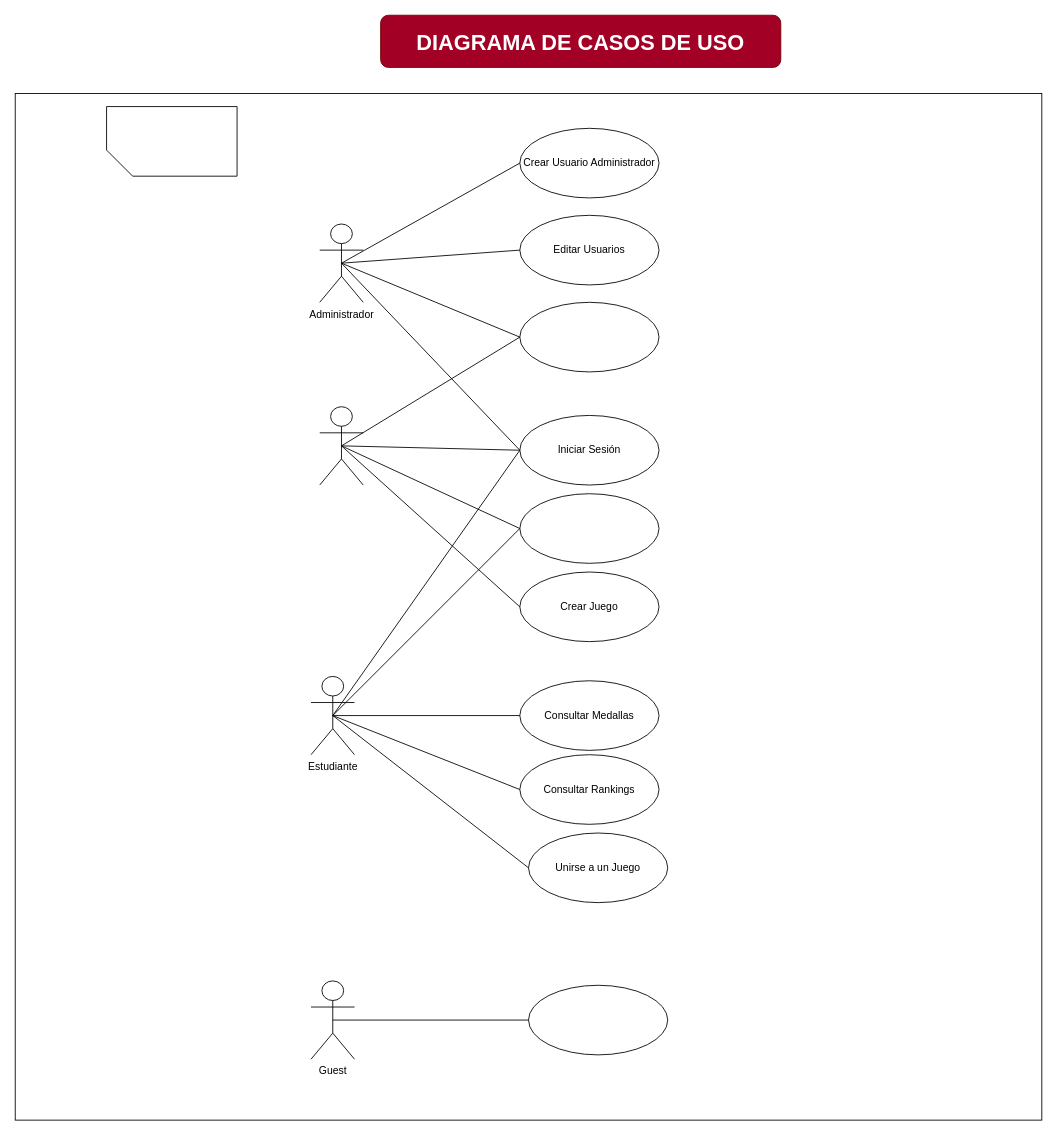
Some shapes in this 1057 by 1135 pixel diagram are drawn without their labels. Here are the shapes that lost their labels. From the top down, the centre of each, then its label:
At point (171, 141): "GamesApp".
At point (589, 336): "Generar Reportes".
At point (341, 445): "Profesor".
At point (589, 528): "Ver Notificaciones".
At point (598, 1019): "Crear Usuario".
